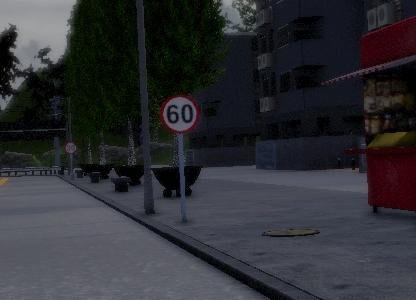Speed_60: (157, 92, 201, 134)
